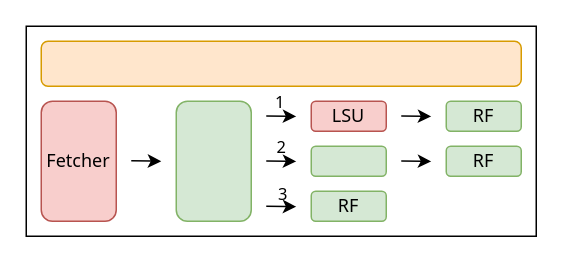
The diagram is 563 pixels wide and 263 high, and some of its shapes have lost their labels. The shapes that lost their labels are listed below. From the top down, each one's centre as x and y in pixels, then its label:
(x=280, y=63): Scheduler
(x=213, y=160): Decoder
(x=348, y=160): ALU
